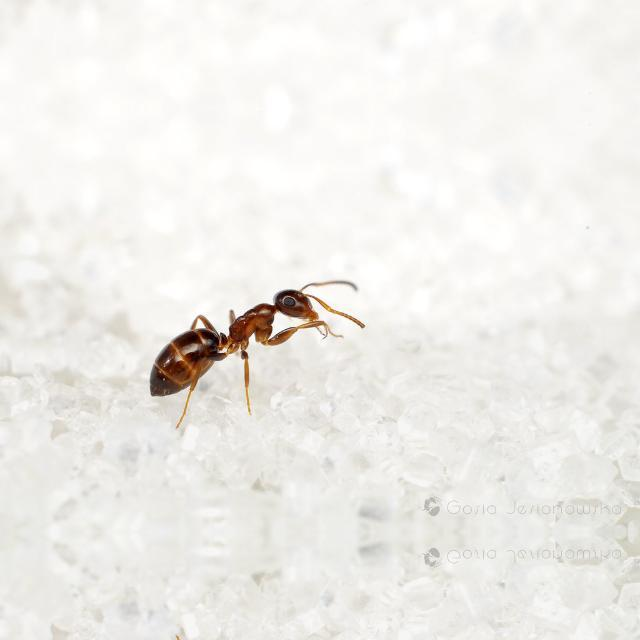Colobopsis: (132, 268, 354, 408)
